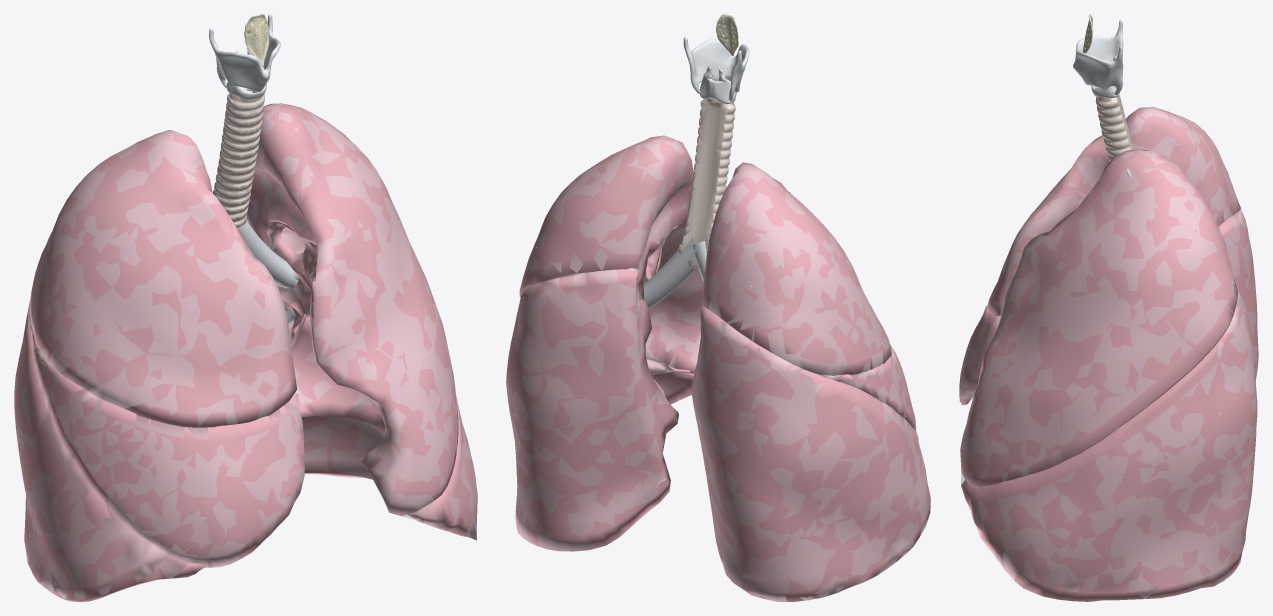
File: respiratory_system.glb
3 renders of one model, left to right at view 1: azimuth 30°, elevation 25°; view 2: azimuth 150°, elevation 25°; view 3: azimuth 270°, elevation 25°, orthographic. The views are drawn at different scales.
Parts seen in each view (by area): view 1: Resp_Lung_Right, Resp_Pleura, Resp_Lung_Left, Resp_Trachea, Resp_Larynx_ThyroidCartilage, Resp_Bronchi_Primary, Resp_Larynx_Epiglottis; view 2: Resp_Lung_Right, Resp_Pleura, Resp_Lung_Left, Resp_Trachea, Resp_Larynx_ThyroidCartilage, Resp_Bronchi_Primary, Resp_Larynx_Epiglottis, Resp_Larynx_CricoidCartilage; view 3: Resp_Lung_Left, Resp_Pleura, Resp_Lung_Right, Resp_Larynx_ThyroidCartilage, Resp_Trachea.
Part boxes in pixels (x1,y1,x2,y2): Resp_Lung_Right: [14, 130, 304, 601]; Resp_Pleura: [14, 104, 476, 599]; Resp_Lung_Left: [247, 103, 477, 540]; Resp_Trachea: [213, 87, 264, 227]; Resp_Larynx_ThyroidCartilage: [209, 14, 280, 91]; Resp_Bronchi_Primary: [238, 221, 294, 286]; Resp_Larynx_Epiglottis: [244, 14, 268, 66]; Resp_Lung_Right: [691, 162, 930, 601]; Resp_Pleura: [506, 135, 930, 601]; Resp_Lung_Left: [506, 135, 703, 551]; Resp_Trachea: [677, 98, 735, 269]; Resp_Larynx_ThyroidCartilage: [683, 37, 749, 101]; Resp_Bronchi_Primary: [643, 237, 706, 308]; Resp_Larynx_Epiglottis: [716, 14, 738, 55]; Resp_Larynx_CricoidCartilage: [699, 76, 736, 104]; Resp_Lung_Left: [960, 149, 1257, 601]; Resp_Pleura: [959, 107, 1258, 598]; Resp_Lung_Right: [959, 107, 1258, 405]; Resp_Larynx_ThyroidCartilage: [1073, 20, 1123, 95]; Resp_Trachea: [1095, 95, 1133, 160].
Bounding box in the file's own units: 0.2618 × 0.3444 × 0.1866.
